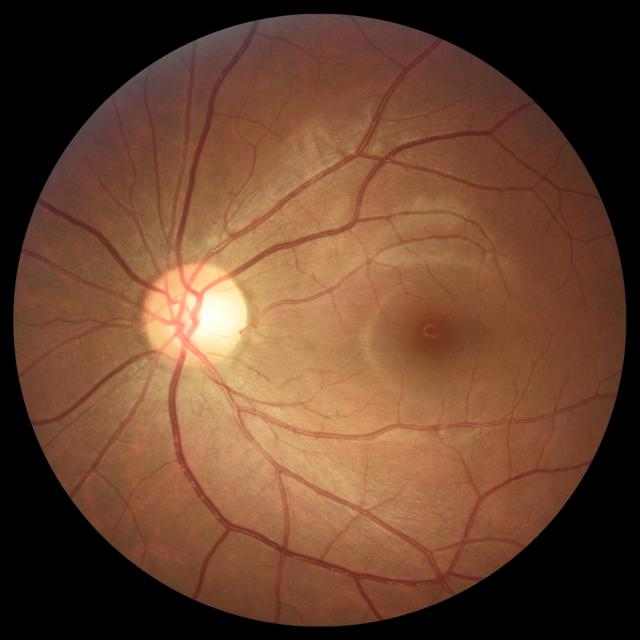OC: (173, 289, 240, 350)
OD: (144, 262, 248, 366)
